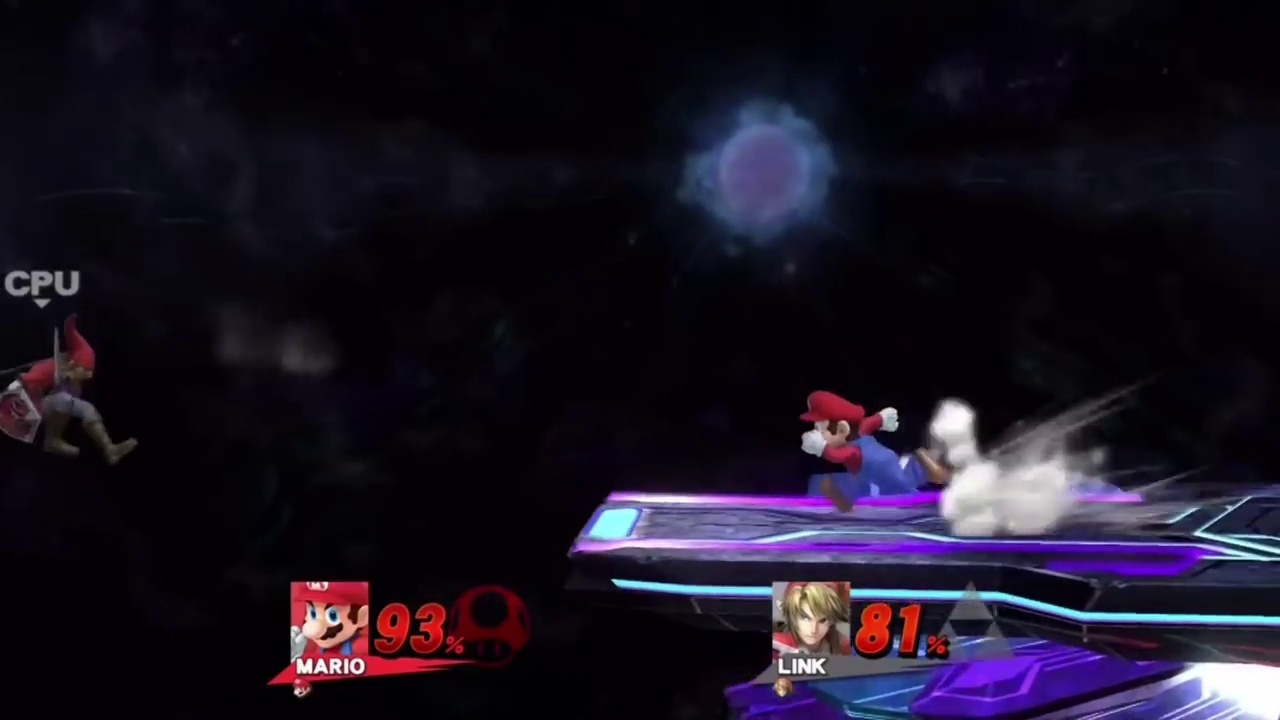Mario: (796, 393, 950, 509)
